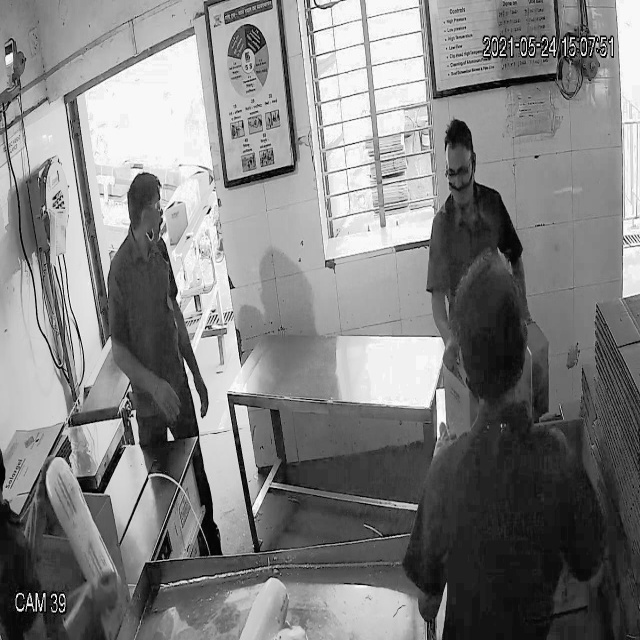Gafas: (443, 157, 476, 187), (130, 198, 166, 222)
